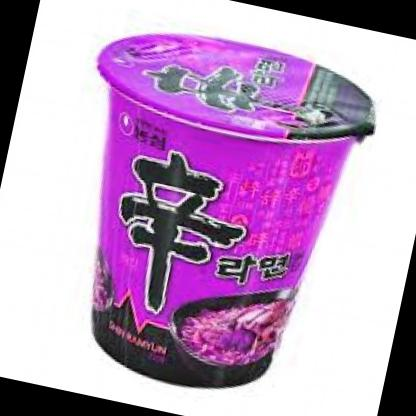Ramen: (37, 12, 390, 411)
